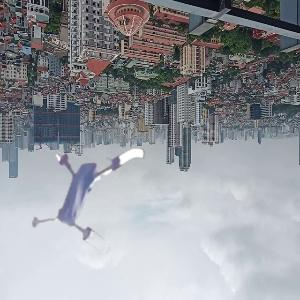drone: (30, 138, 147, 255)
